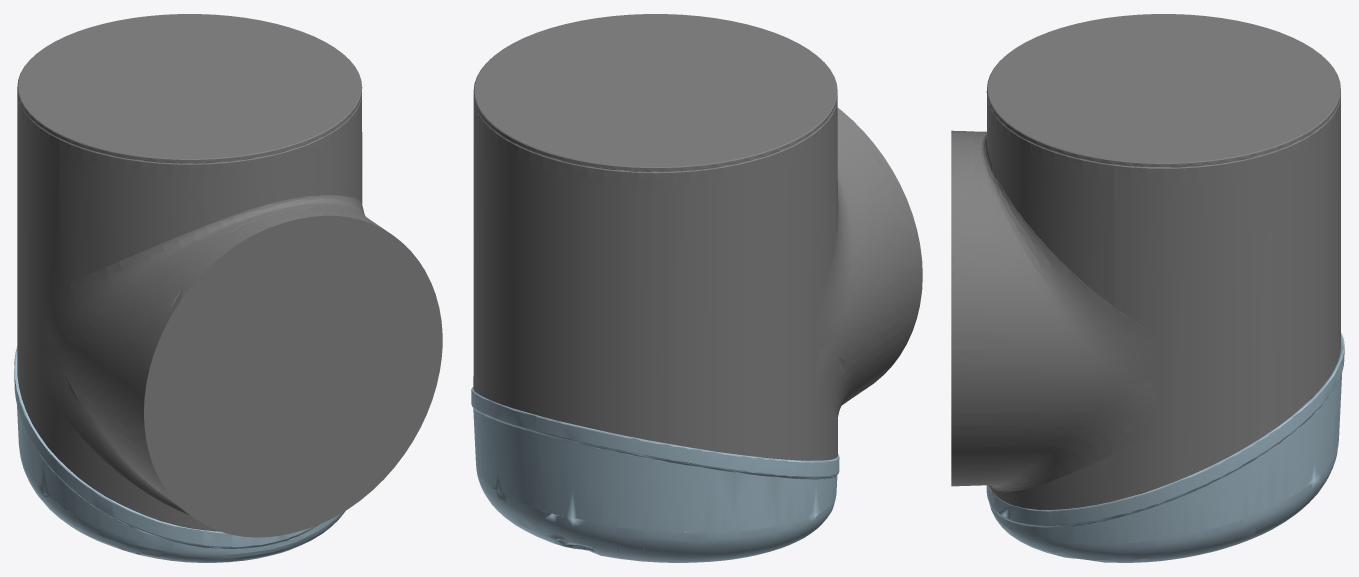
Rendered from wrist1.dae.
3 renders of one model, left to right at view 1: azimuth 30°, elevation 25°; view 2: azimuth 150°, elevation 25°; view 3: azimuth 270°, elevation 25°, orthographic. The views are drawn at different scales.
Parts seen in each view (by area): view 1: node-shape0-name, node-shape1-name; view 2: node-shape0-name, node-shape1-name; view 3: node-shape0-name, node-shape1-name.
Boxes of the visible parts, x1,y1,x2,y2 form: node-shape0-name: (17, 14, 442, 537); node-shape1-name: (14, 346, 345, 562); node-shape0-name: (473, 14, 922, 460); node-shape1-name: (471, 387, 839, 562); node-shape0-name: (951, 14, 1340, 509); node-shape1-name: (986, 333, 1344, 562).
Size of the model in its own units: 0.091 by 0.0999 by 0.1188.
